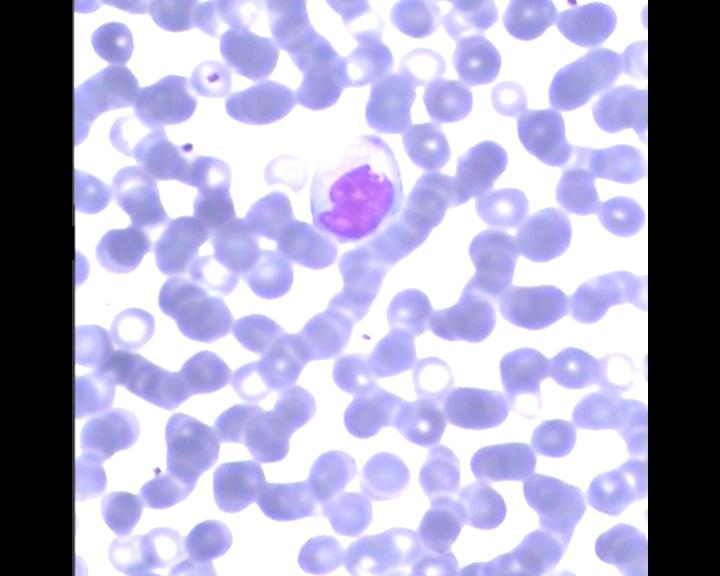mono: (302, 127, 404, 243)
